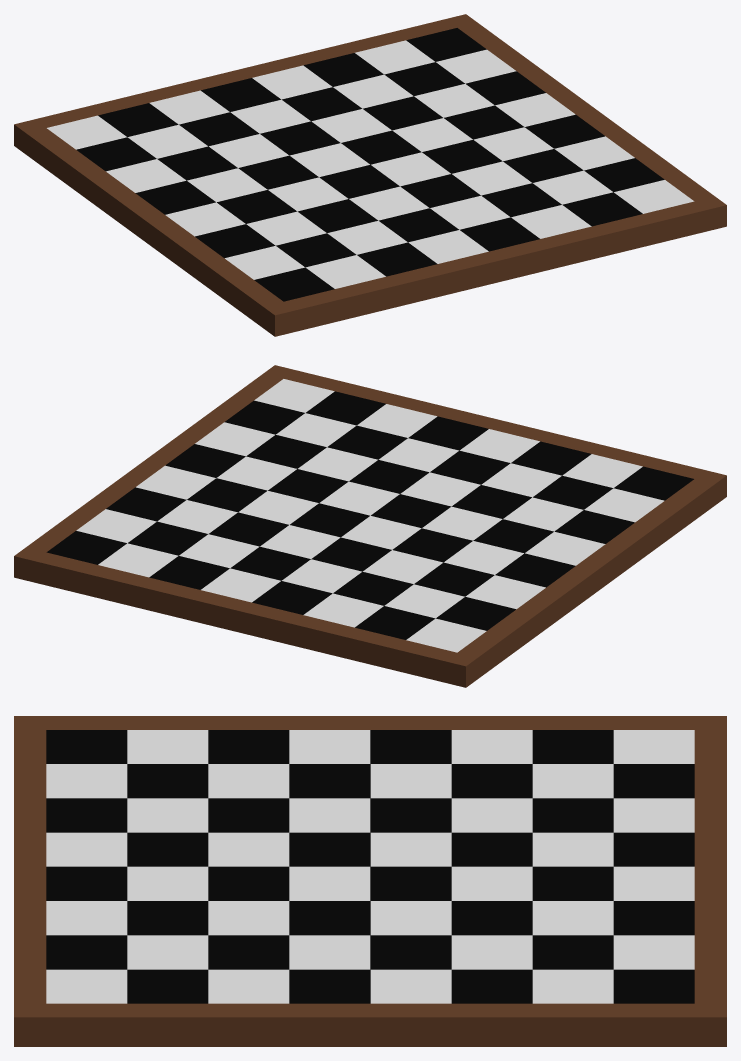
The model's file is chess-board.glb.
3 renders of one model, top to bottom at view 1: azimuth 30°, elevation 25°; view 2: azimuth 150°, elevation 25°; view 3: azimuth 270°, elevation 25°, orthographic. The views are drawn at different scales.
Parts seen in each view (by area): view 1: chess-board, chess-board-frame; view 2: chess-board, chess-board-frame; view 3: chess-board, chess-board-frame.
Part boxes in pixels (<box>): chess-board: <box>47,28,694,301</box>; chess-board-frame: <box>14,14,726,336</box>; chess-board: <box>46,379,693,652</box>; chess-board-frame: <box>14,365,726,687</box>; chess-board: <box>46,730,694,1003</box>; chess-board-frame: <box>14,716,726,1046</box>.
Bounding box in the file's own units: 2.2 × 0.1 × 2.2.
